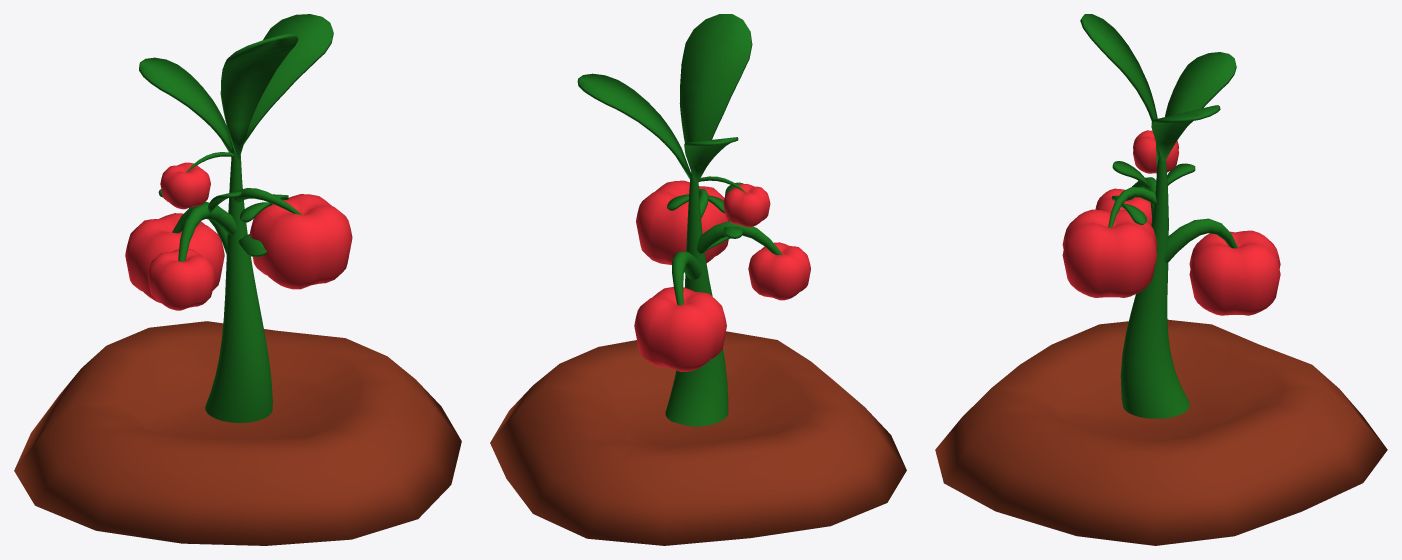
File: Tomate_02.fbx
3 renders of one model, left to right at view 1: azimuth 30°, elevation 25°; view 2: azimuth 150°, elevation 25°; view 3: azimuth 270°, elevation 25°, orthographic. The views are drawn at different scales.
Parts seen in each view (by area): view 1: Tomate_02; view 2: Tomate_02; view 3: Tomate_02.
Part boxes in pixels (<box>): Tomate_02: <box>14,14,461,545</box>; Tomate_02: <box>490,14,906,545</box>; Tomate_02: <box>935,14,1387,545</box>.
Bounding box in the file's own units: 414 × 436 × 413.
